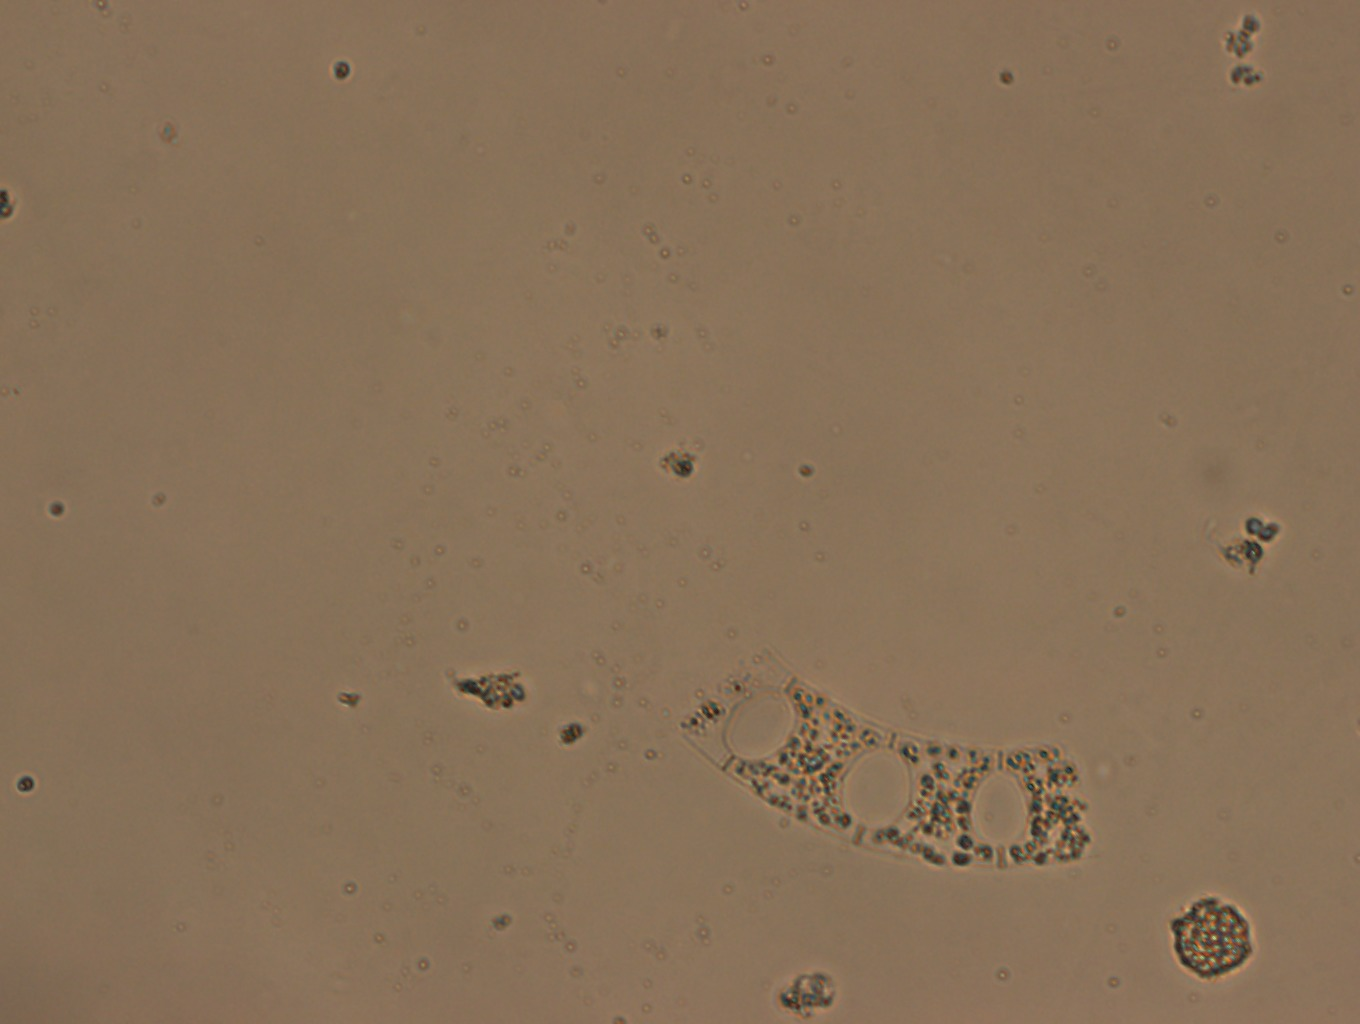eucampia: (668, 638, 1103, 880)
